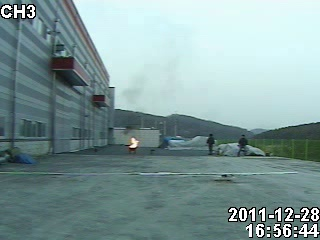fire: (125, 135, 142, 151)
